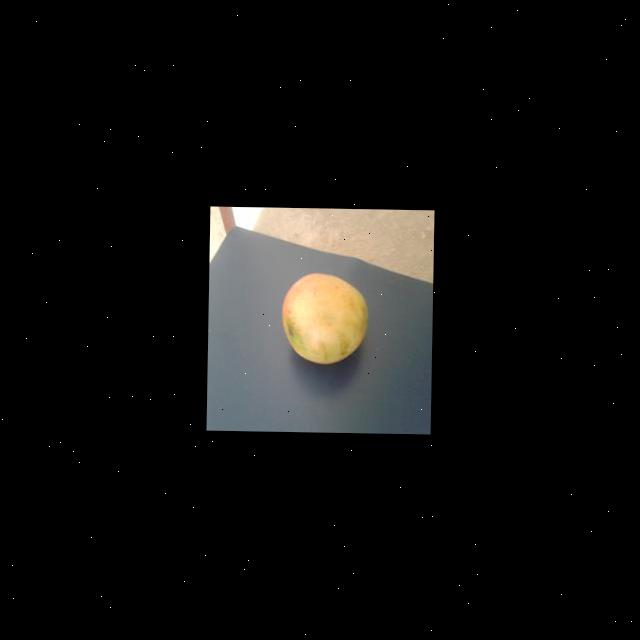Mango: (281, 271, 370, 365)
